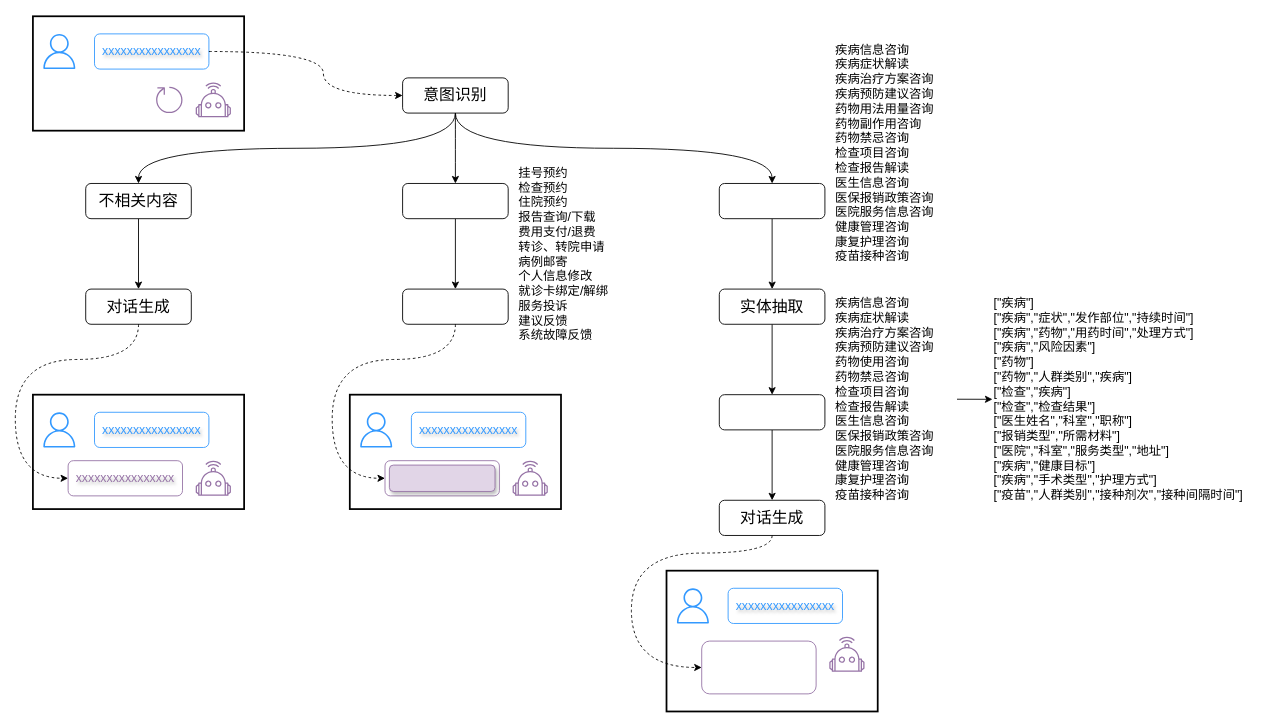
The diagram is 1280 pixels wide and 727 high, and some of its shapes have lost their labels. The shapes that lost their labels are listed below. From the top down, each one's centre as x and y in pixels, then its label:
the point at 455,201: 功能请求
the point at 771,201: 信息咨询
the point at 455,306: 返回功能入口
the point at 771,412: 查询知识图谱
the point at 758,667: xxxxxxxxxxxxxxxx xxxxxxxxxxxxxxxx xxxxxxxxxxxxxxxx
